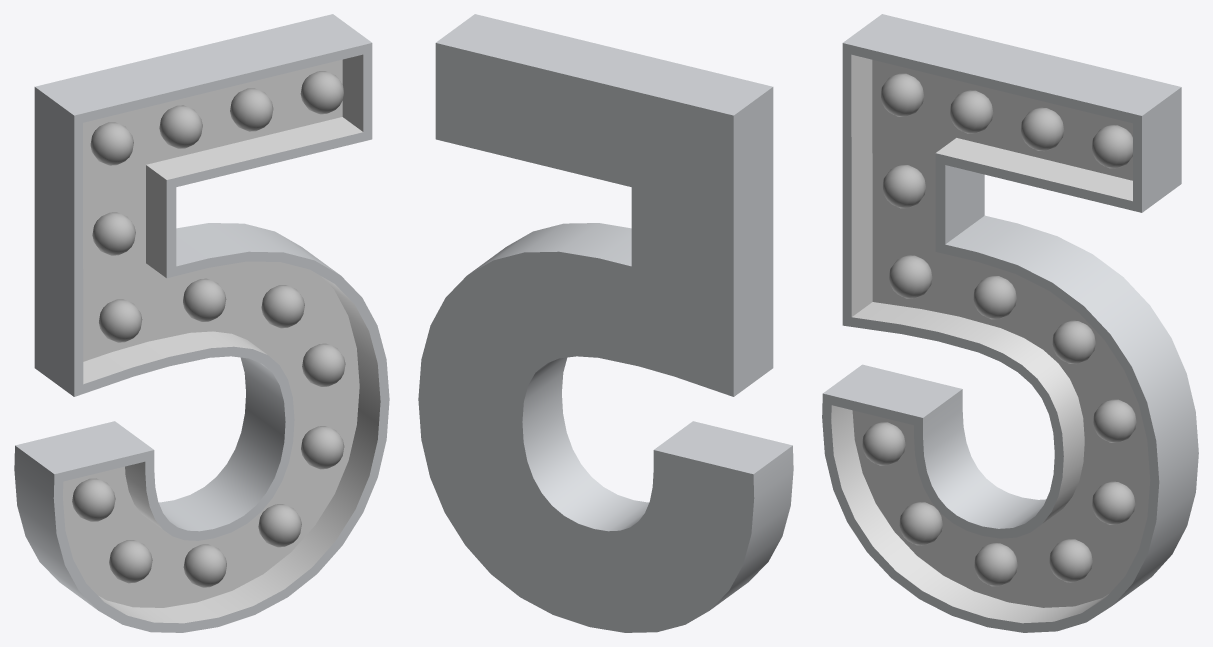
The model's file is LettersBulb01_5.FBX.
3 views of the same model, side by side, from view 1: azimuth 30°, elevation 25°; view 2: azimuth 150°, elevation 25°; view 3: azimuth 330°, elevation 25° (orthographic).
Parts seen in each view (by area): view 1: LettersBulb01_5; view 2: LettersBulb01_5; view 3: LettersBulb01_5.
Part boxes in pixels (bbox=[...]): LettersBulb01_5: bbox=[14, 14, 389, 632]; LettersBulb01_5: bbox=[418, 14, 793, 632]; LettersBulb01_5: bbox=[822, 14, 1198, 632].
Size of what is drawn, in the model's own units: 0.7648 by 1.19 by 0.1563.
